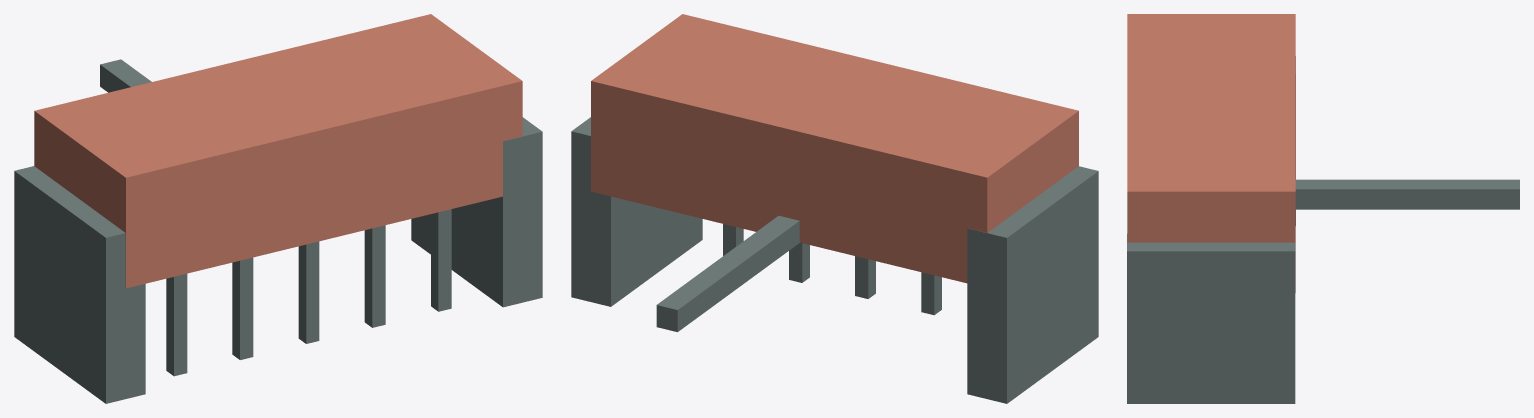
The model's file is cozy-farm-and-homestead-seed-drill-9c11cd26__19402.glb.
3 renders of one model, left to right at view 1: azimuth 30°, elevation 25°; view 2: azimuth 150°, elevation 25°; view 3: azimuth 270°, elevation 25°, orthographic. The views are drawn at different scales.
Visible parts, largest first — view 1: seed-drill; view 2: seed-drill; view 3: seed-drill.
Boxes of the visible parts, bbox=[...] form: seed-drill: bbox=[14, 14, 542, 403]; seed-drill: bbox=[571, 14, 1098, 403]; seed-drill: bbox=[1127, 14, 1519, 403].
Bounding box in the file's own units: 1.65 × 0.8 × 1.4.
